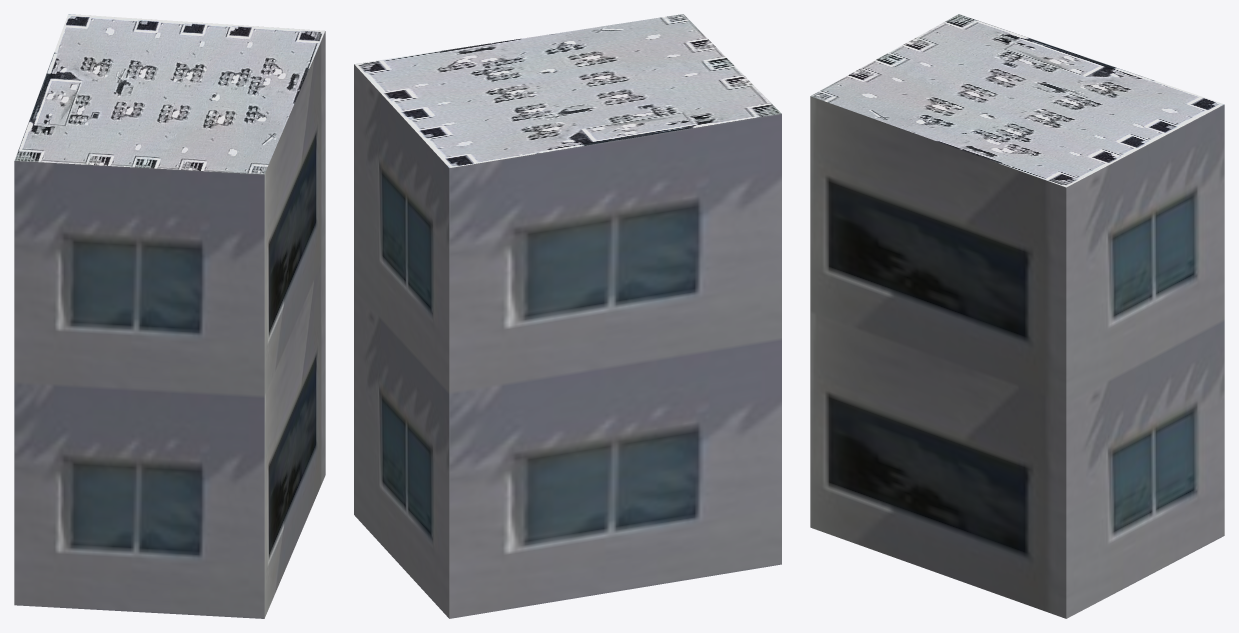
Rendered from ResTex__2014.fbx.
3 renders of one model, left to right at view 1: azimuth 30°, elevation 25°; view 2: azimuth 150°, elevation 25°; view 3: azimuth 270°, elevation 25°, orthographic. The views are drawn at different scales.
Parts seen in each view (by area): view 1: CityEngineMaterial_10_m, CityEngineMaterial_4_m; view 2: CityEngineMaterial_10_m, CityEngineMaterial_4_m; view 3: CityEngineMaterial_10_m, CityEngineMaterial_4_m.
Boxes of the visible parts, x1,y1,x2,y2 form: CityEngineMaterial_10_m: (14,31,325,618); CityEngineMaterial_4_m: (14,14,325,174); CityEngineMaterial_10_m: (354,64,781,618); CityEngineMaterial_4_m: (354,14,781,167); CityEngineMaterial_10_m: (810,96,1224,618); CityEngineMaterial_4_m: (810,14,1224,187).
Size of the model in its own units: 5.18 by 6 by 5.22.
Materials: 2 (2 with a texture image).
